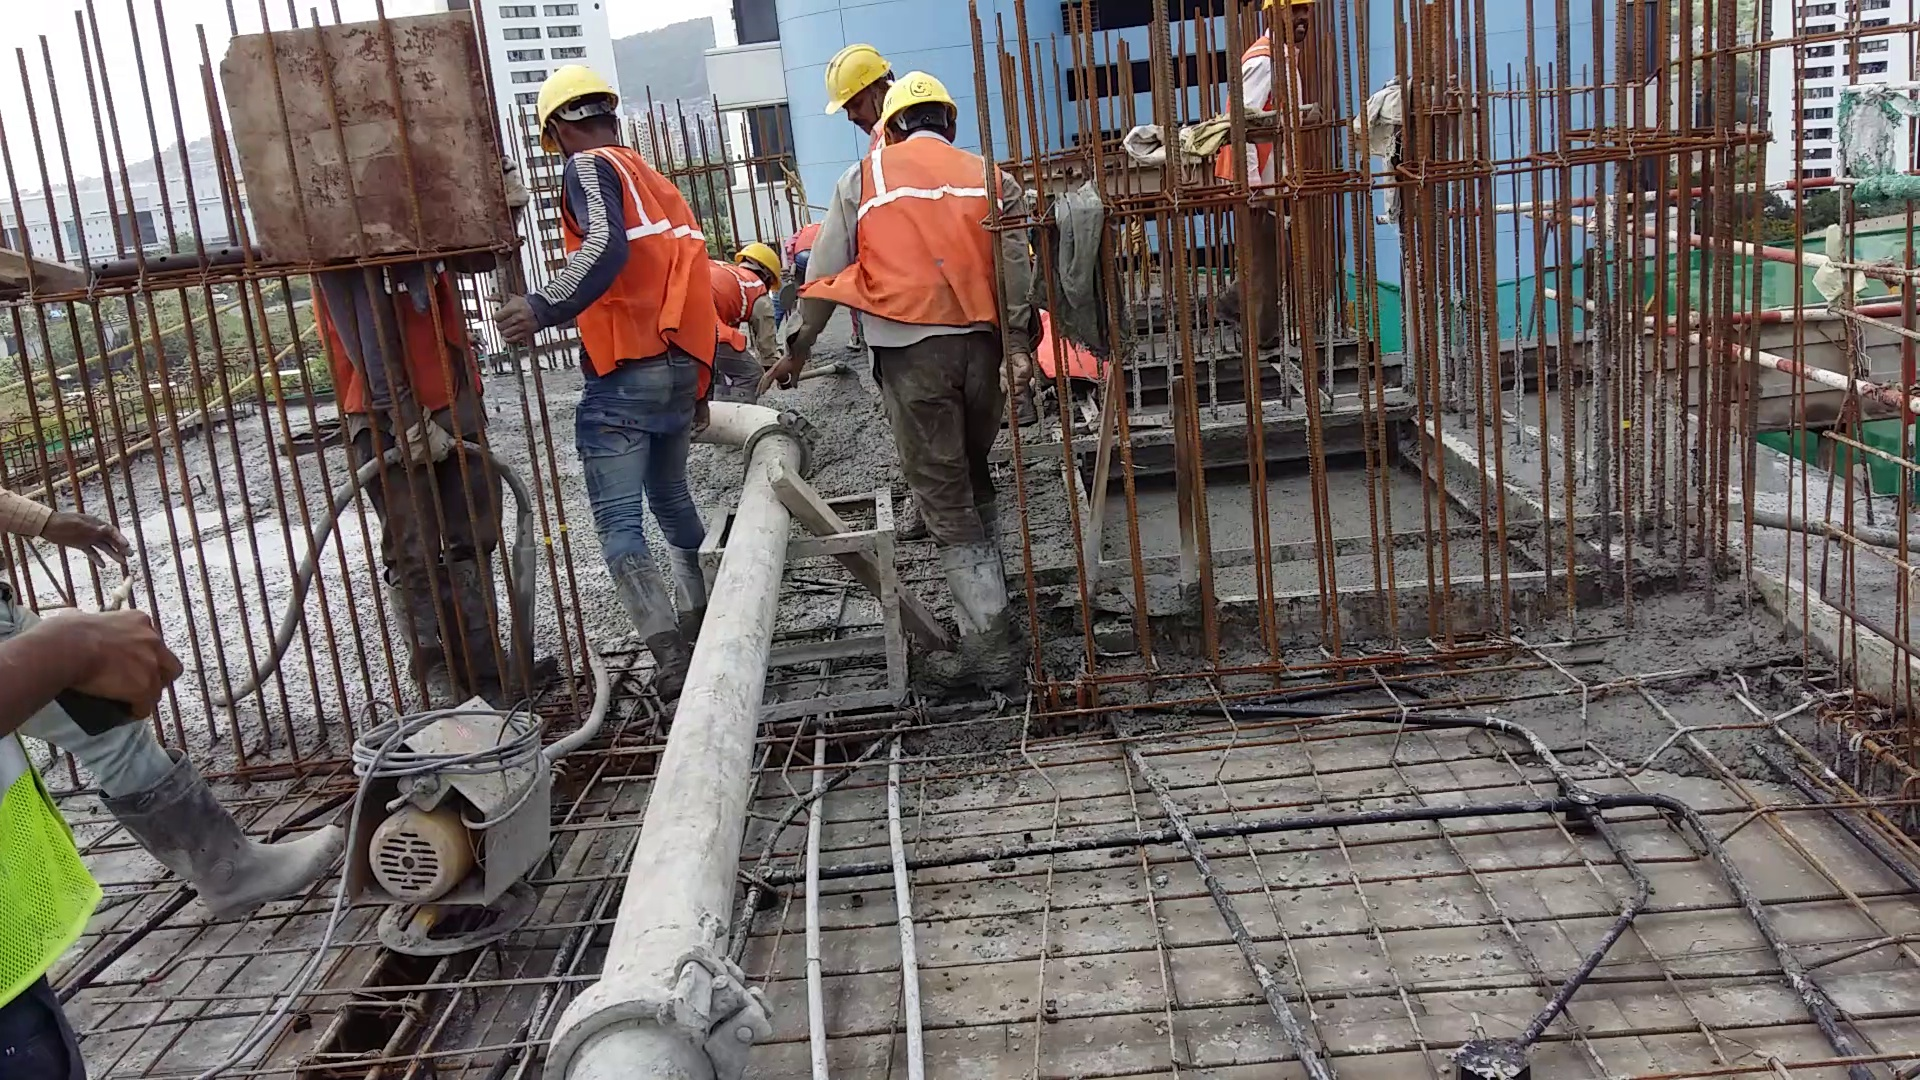SAFE: (530, 55, 716, 382), (844, 65, 1000, 349)
